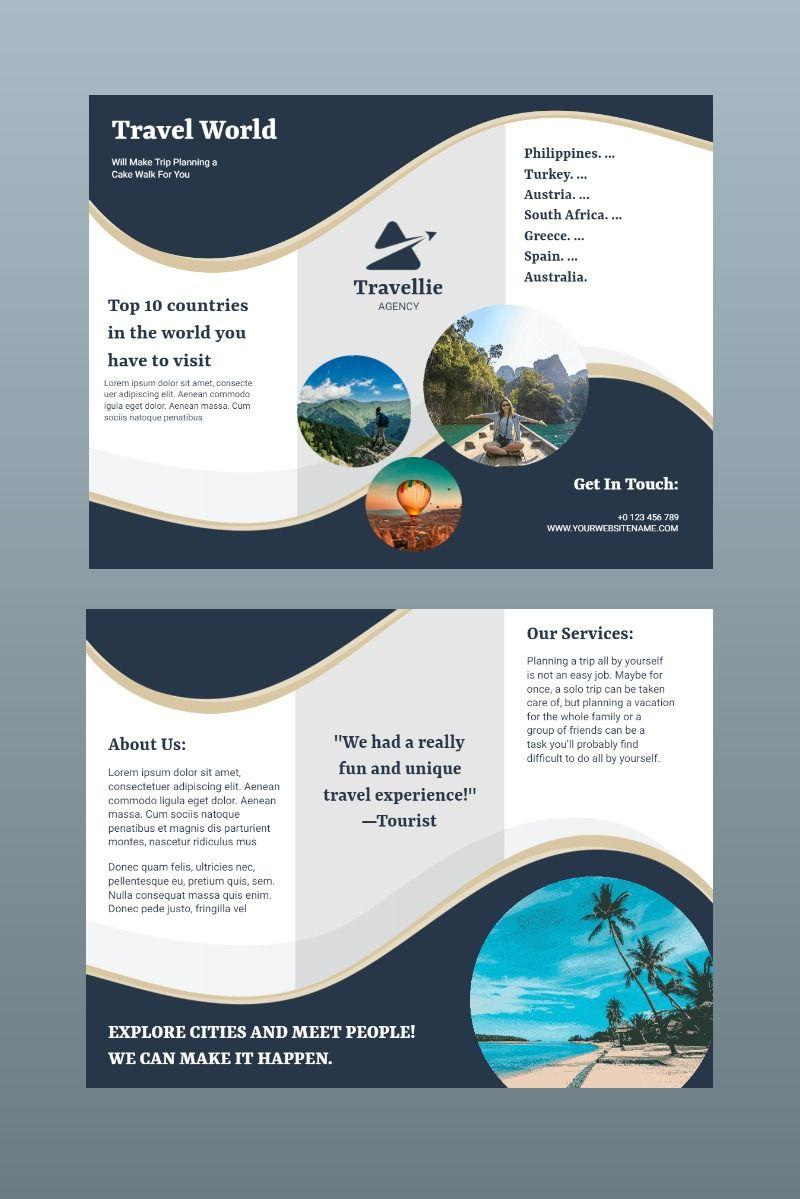paper: (100, 88, 714, 1094)
